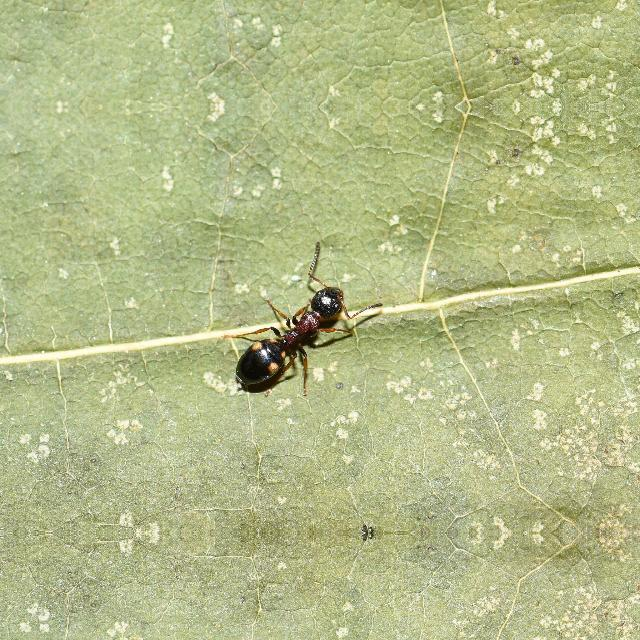Dolichoderus: (211, 272, 373, 402)
